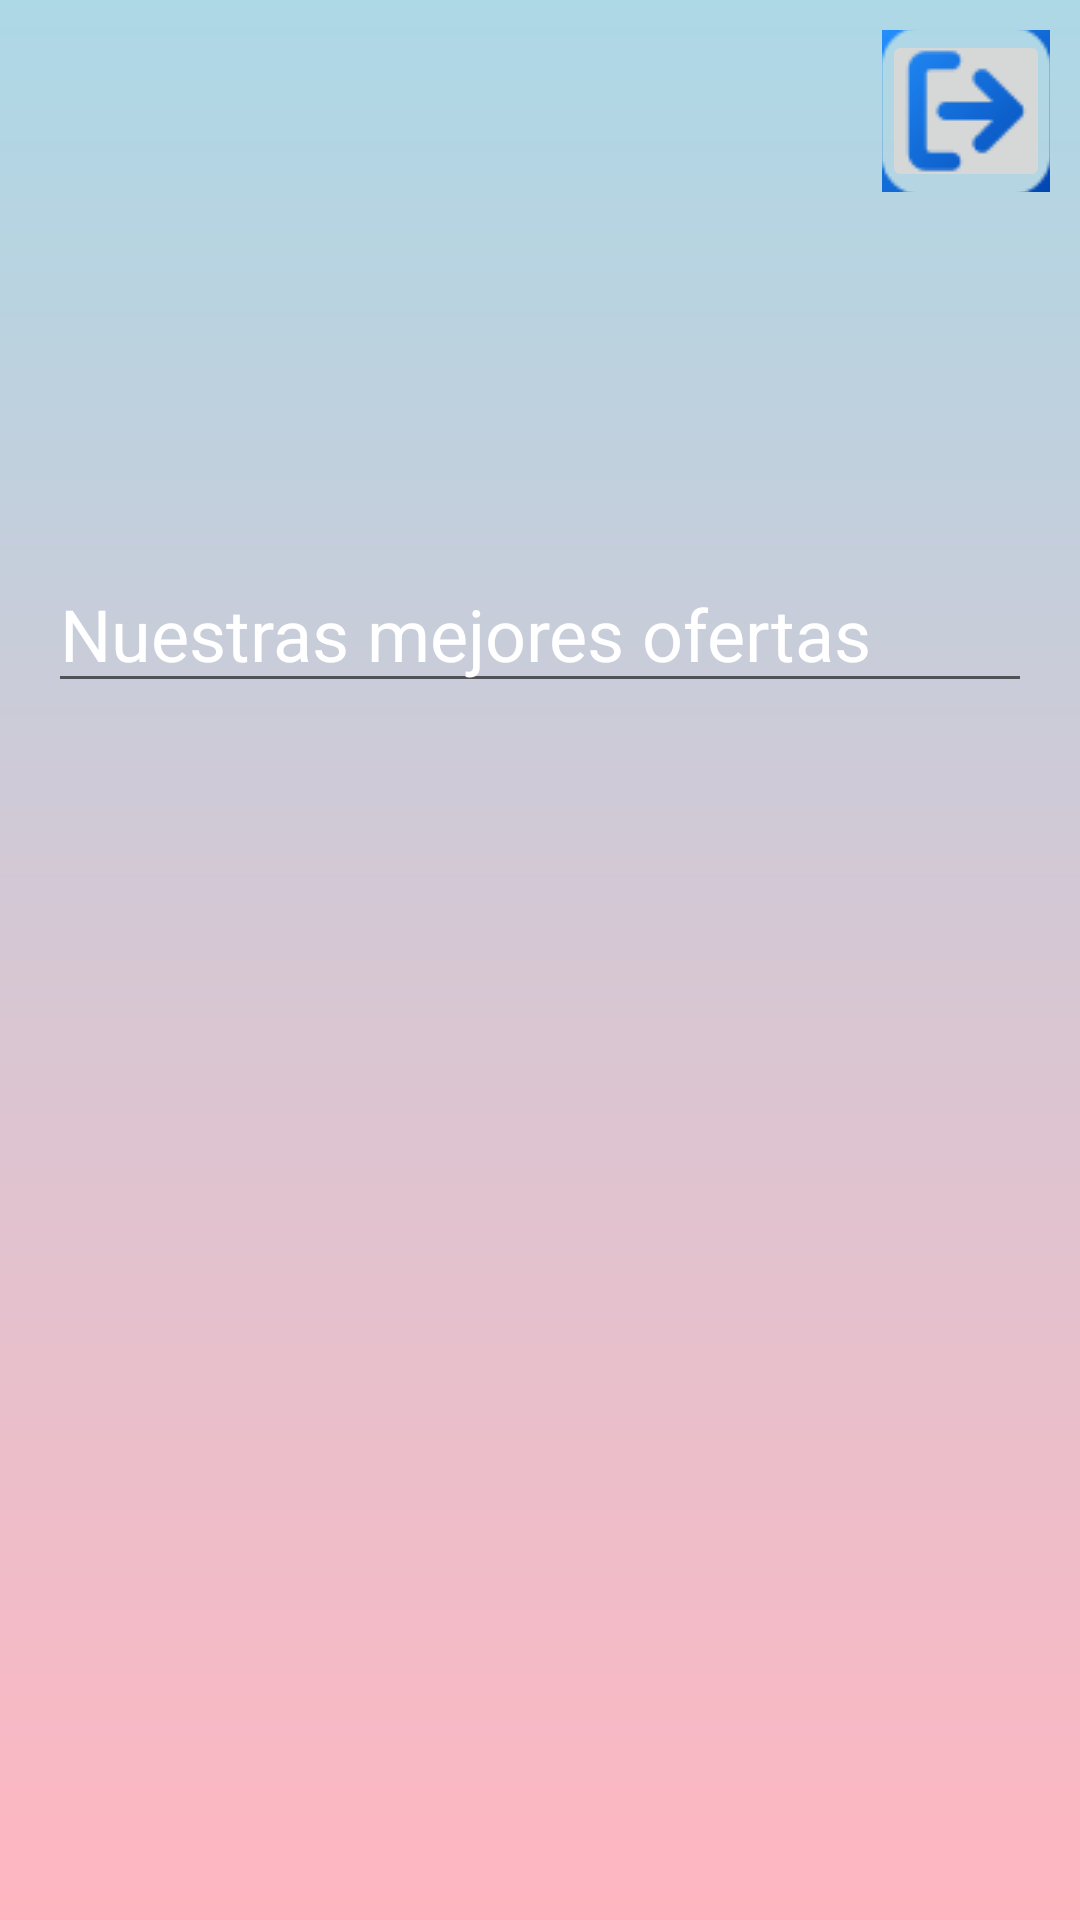

Locate icon controls on the screen. Image size 1080x1920, boxes as (x1, y1, x2, y2).
cerrar sesion: (882, 30, 1050, 192)
